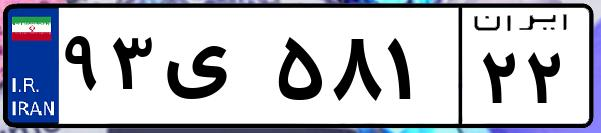1: (385, 28, 445, 110)
2: (475, 38, 525, 113), (525, 38, 570, 115)
3: (110, 28, 158, 98)
5: (270, 28, 330, 110)
8: (330, 28, 385, 110)
9: (57, 26, 110, 100)
ی: (158, 20, 270, 120)
